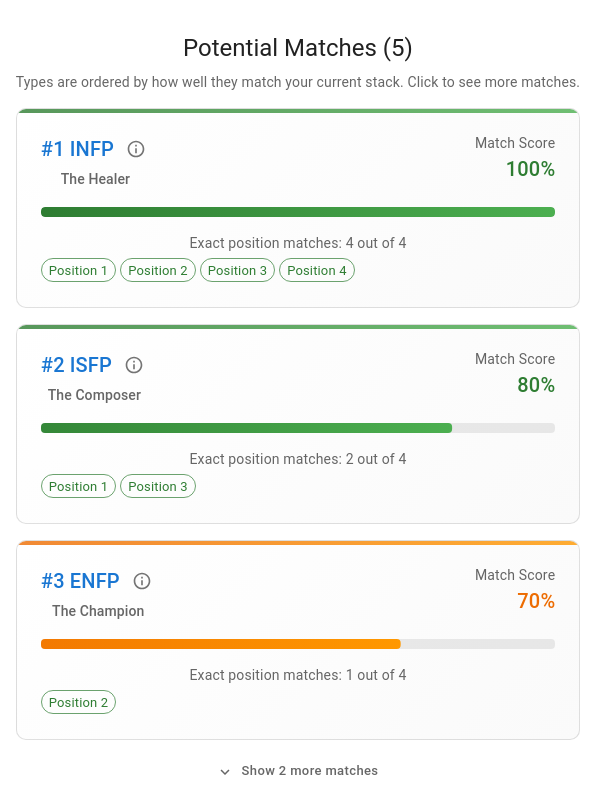
MatchingResults › should collapse back when "Show fewer" clicked
Expand first
Click the button "Show 2 more matches" at coordinates (298, 772), box x1=213 y1=756 x2=383 y2=787
(page scrolled)
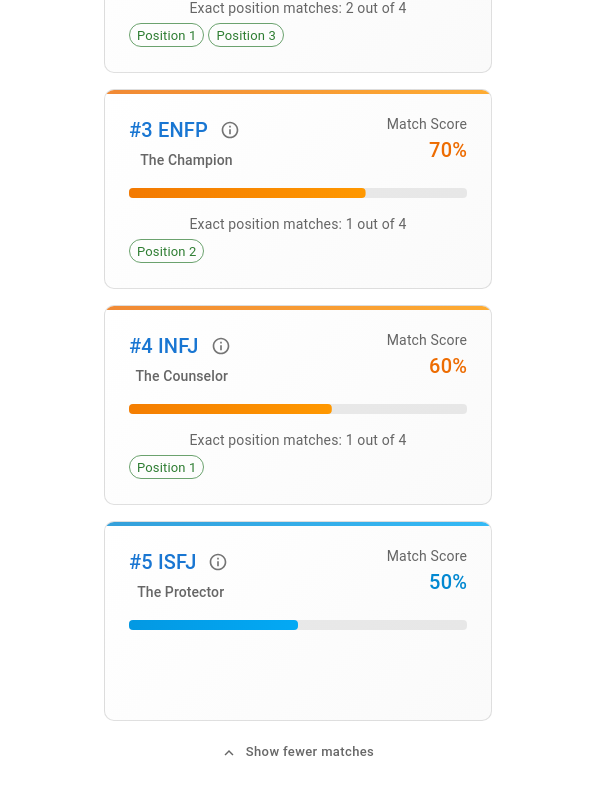
Expected: the heading "#4 INFJ" is shown, x1=129 y1=330 x2=199 y2=362
Then collapse
Click the button "Show fewer matches" at coordinates (298, 753), box x1=217 y1=737 x2=379 y2=768
(page scrolled)
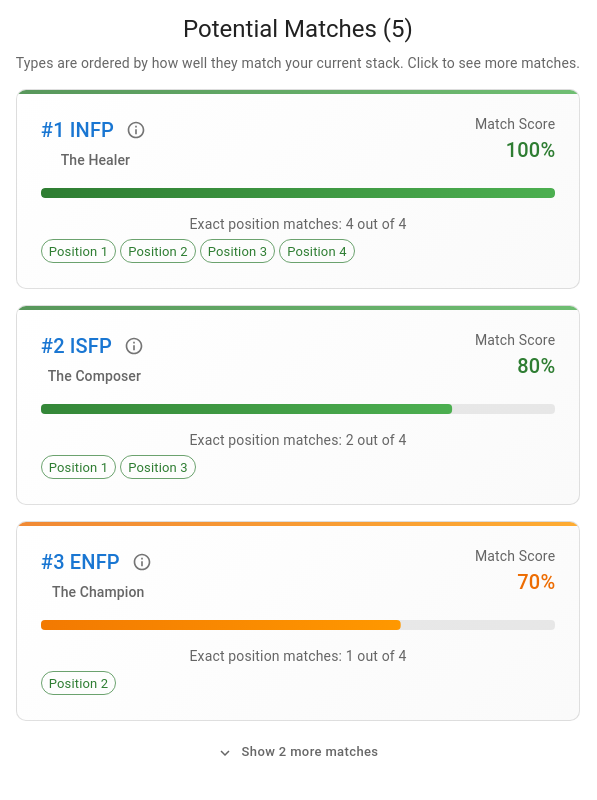
Expected: the heading "#4 INFJ" is gone
Expected: the button "Show 2 more matches" is shown, x1=213 y1=737 x2=383 y2=768
